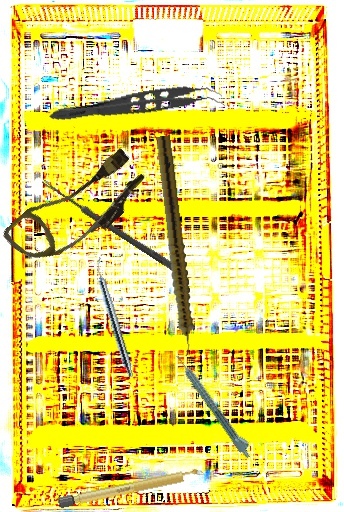Cannula: (0, 135, 155, 284)
Handpiece: (151, 135, 198, 357), (173, 350, 257, 460), (90, 256, 138, 379)
Scalpel Handle: (56, 466, 207, 510)
Surgical Spoon: (39, 178, 179, 272)
Tissue Forceps: (47, 78, 225, 136)
